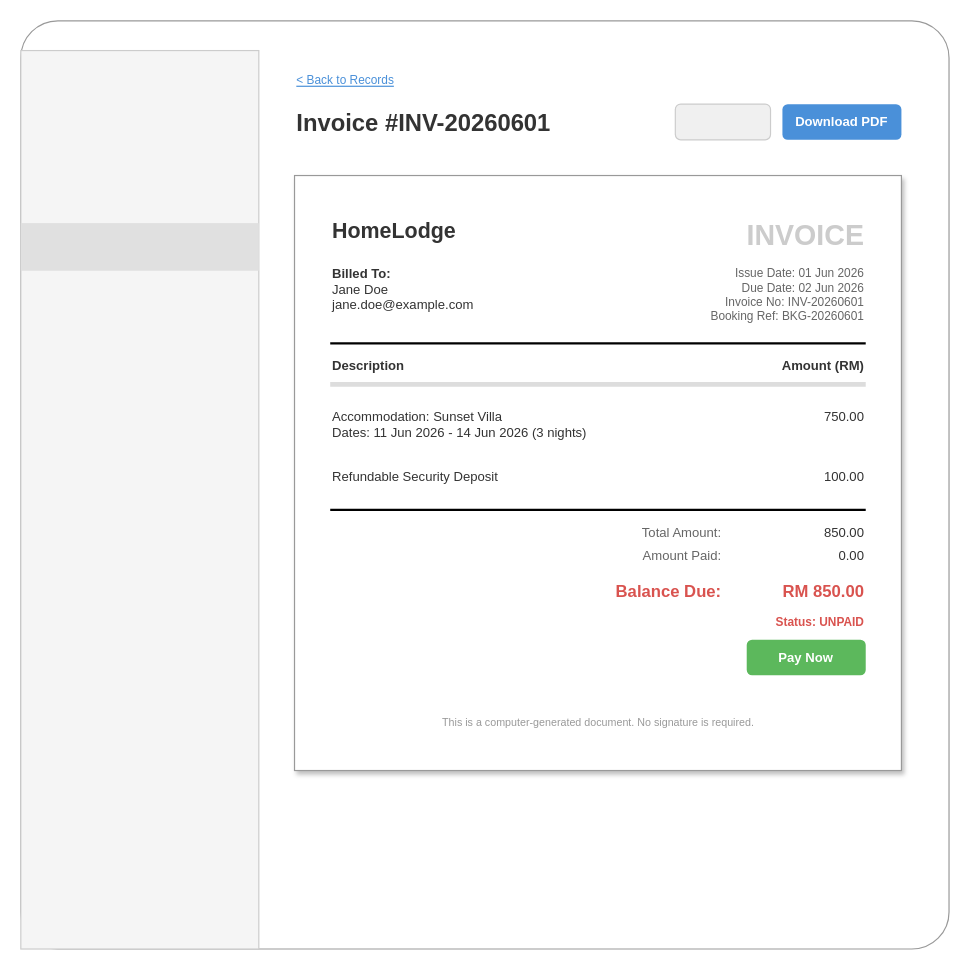
This 970x970 diagram has some shape labels left out. The shapes that lost their labels are listed below. From the top down, each one's centre as x and y in pixels, then its label:
point (722, 121): Print
point (139, 246): Billing & Receipts
